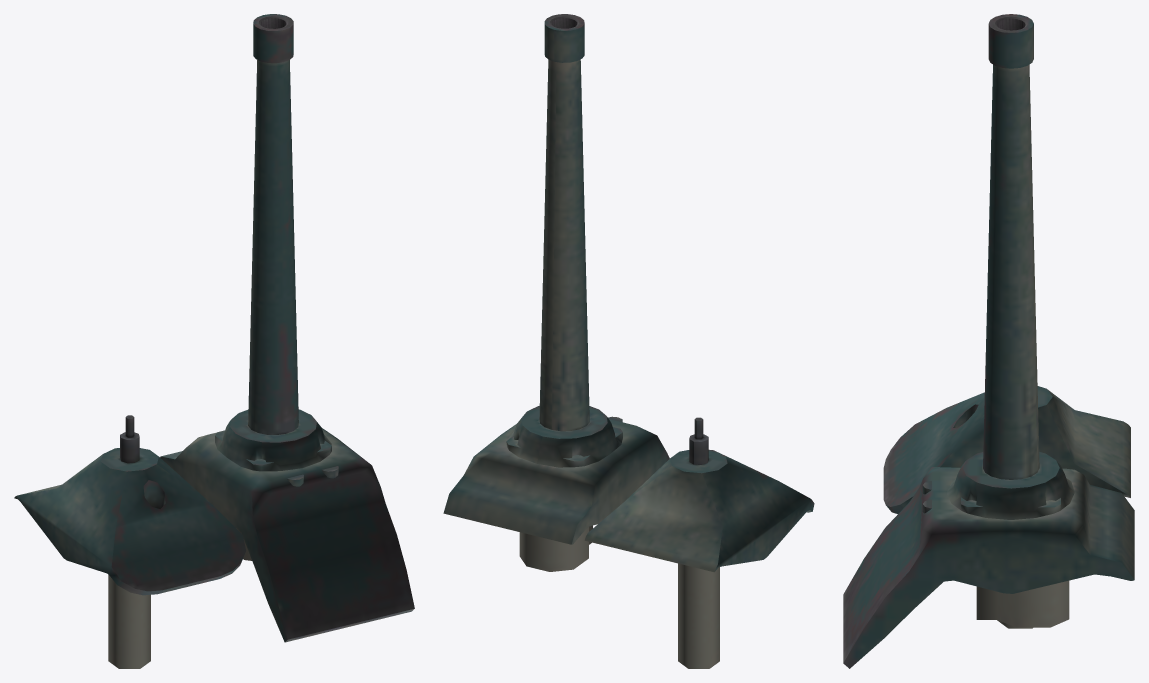
File: Gun_02.glb
3 renders of one model, left to right at view 1: azimuth 30°, elevation 25°; view 2: azimuth 150°, elevation 25°; view 3: azimuth 270°, elevation 25°, orthographic. The views are drawn at different scales.
Parts seen in each view (by area): view 1: set_0_group_0; view 2: set_0_group_0; view 3: set_0_group_0.
Part boxes in pixels (x1,y1,x2,y2): set_0_group_0: (14, 14, 414, 668); set_0_group_0: (443, 14, 814, 668); set_0_group_0: (843, 14, 1134, 668).
Bounding box in the file's own units: 0.5642 × 1.2 × 0.4736.
Materials: 1 (1 with a texture image).
